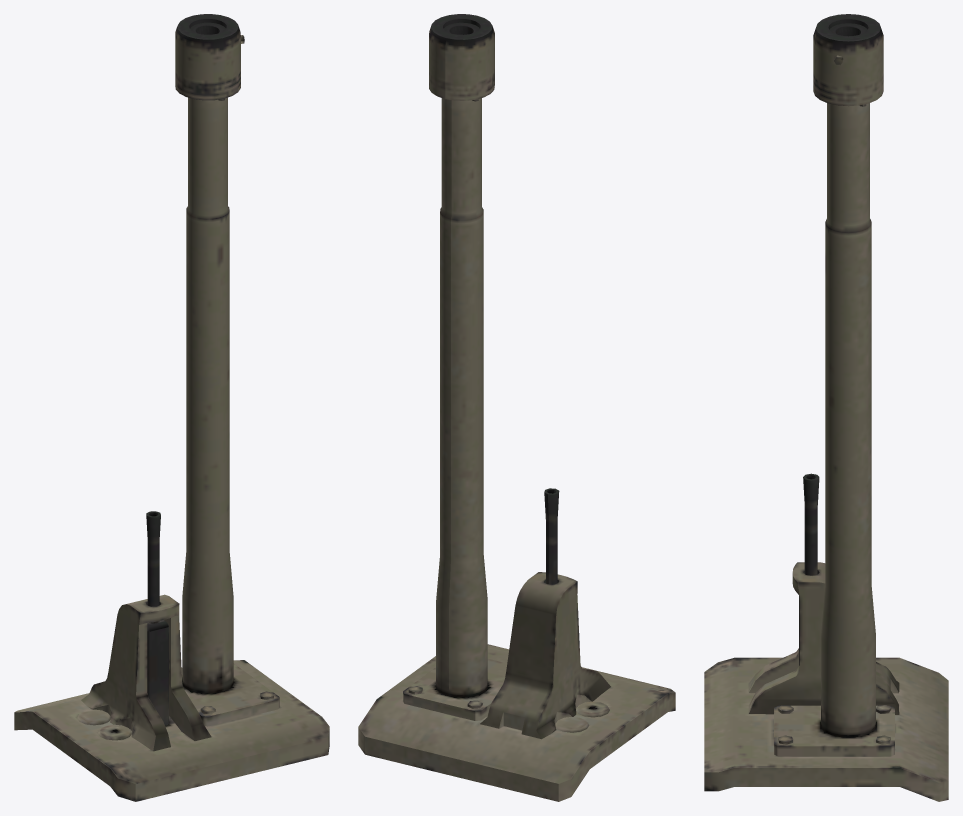
Rendered from Gun_06.glb.
3 renders of one model, left to right at view 1: azimuth 30°, elevation 25°; view 2: azimuth 150°, elevation 25°; view 3: azimuth 270°, elevation 25°, orthographic. The views are drawn at different scales.
Parts seen in each view (by area): view 1: set_0_group_0; view 2: set_0_group_0; view 3: set_0_group_0.
Part boxes in pixels (x1,y1,x2,y2): set_0_group_0: (14,14,329,801); set_0_group_0: (358,14,675,801); set_0_group_0: (704,14,948,801).
Bounding box in the file's own units: 0.56 × 1.77 × 0.5254.
Materials: 1 (1 with a texture image).
